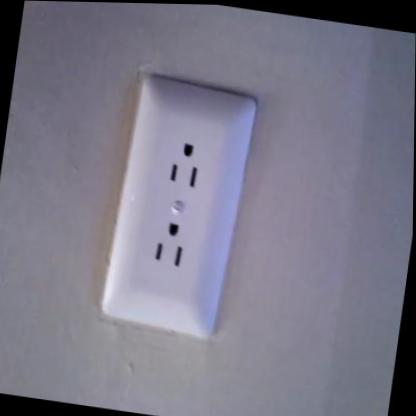OUTLET: (99, 80, 258, 338)
